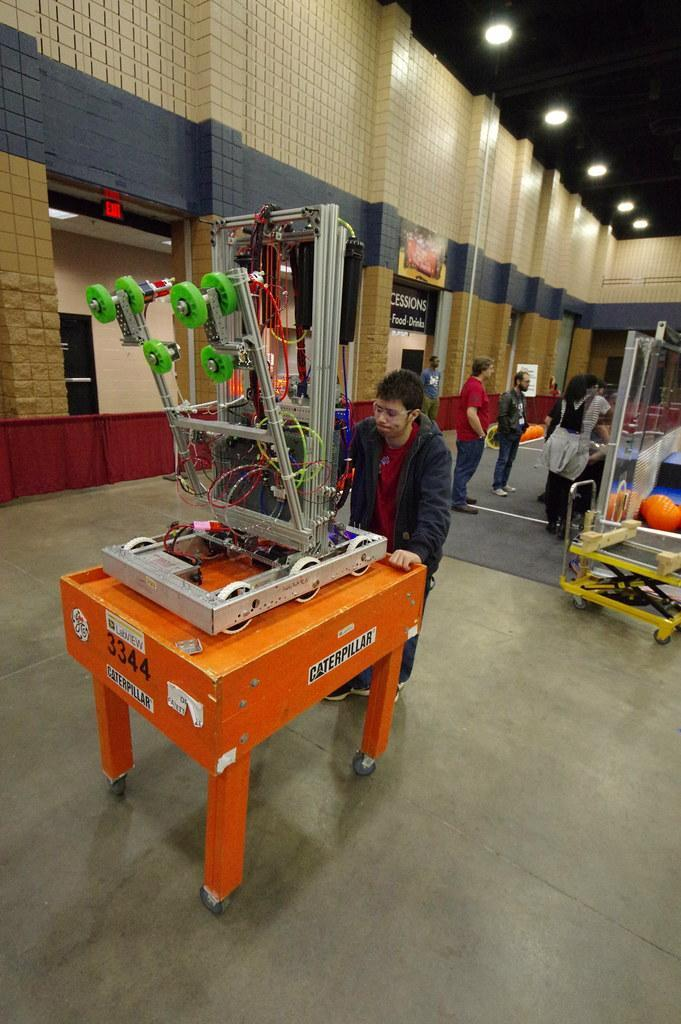robot: (80, 194, 396, 643)
